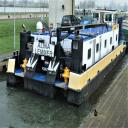tugboat: (6, 9, 128, 110)
